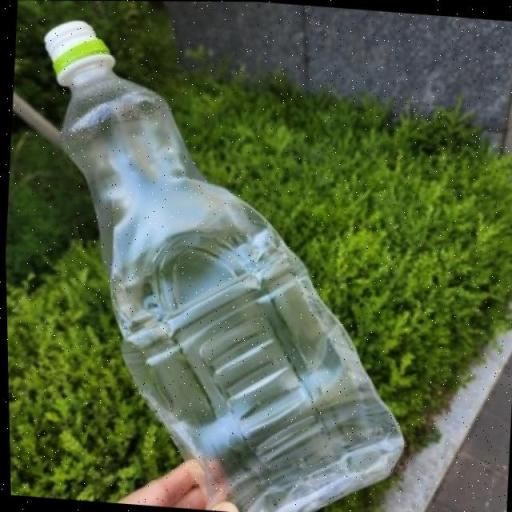plastic: (42, 21, 403, 512)
